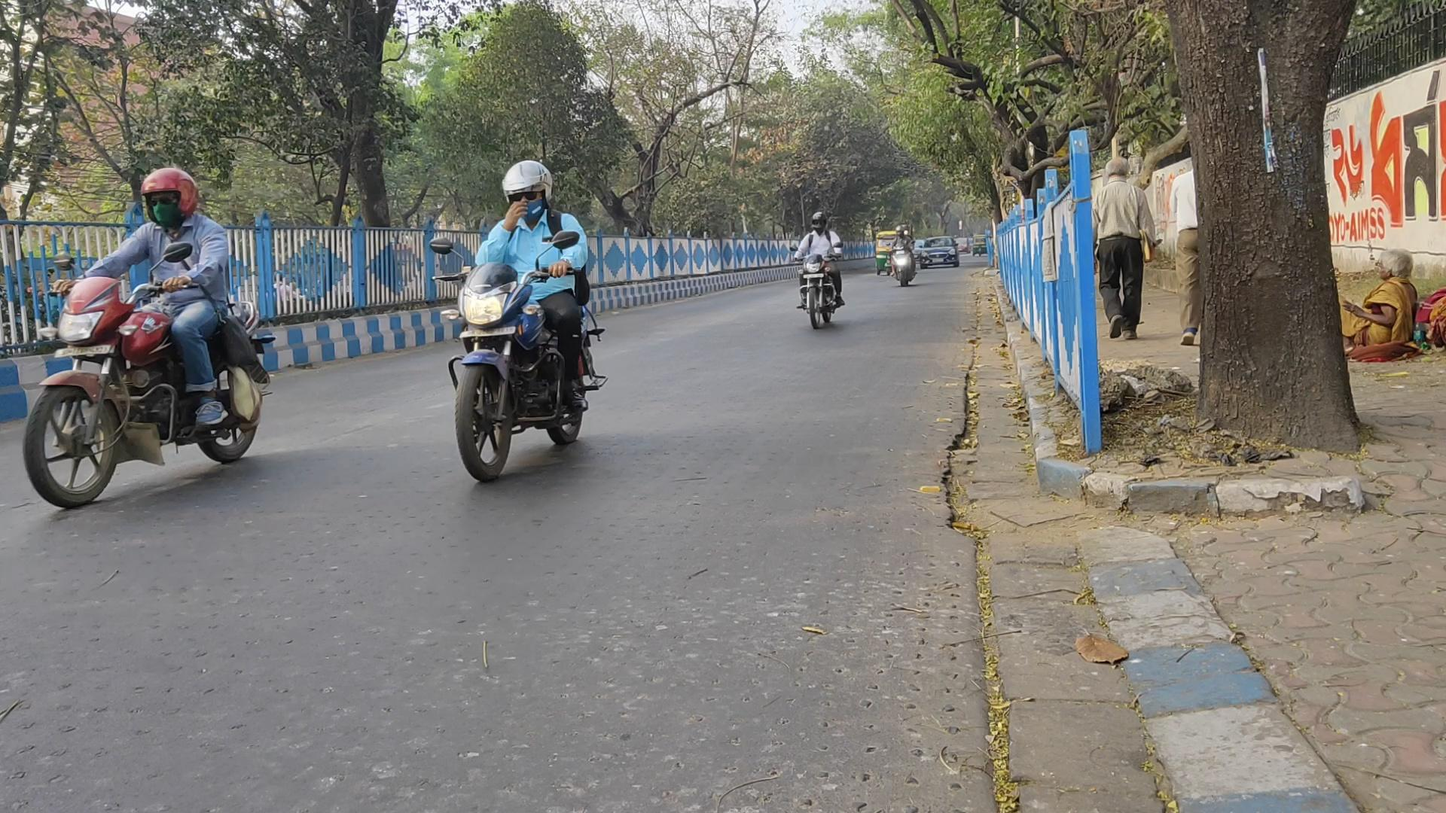Auto: (875, 230, 912, 276), (972, 232, 989, 258)
bike: (24, 168, 276, 507), (430, 160, 608, 480), (792, 211, 846, 331), (889, 224, 917, 289)
car: (918, 235, 962, 269)
